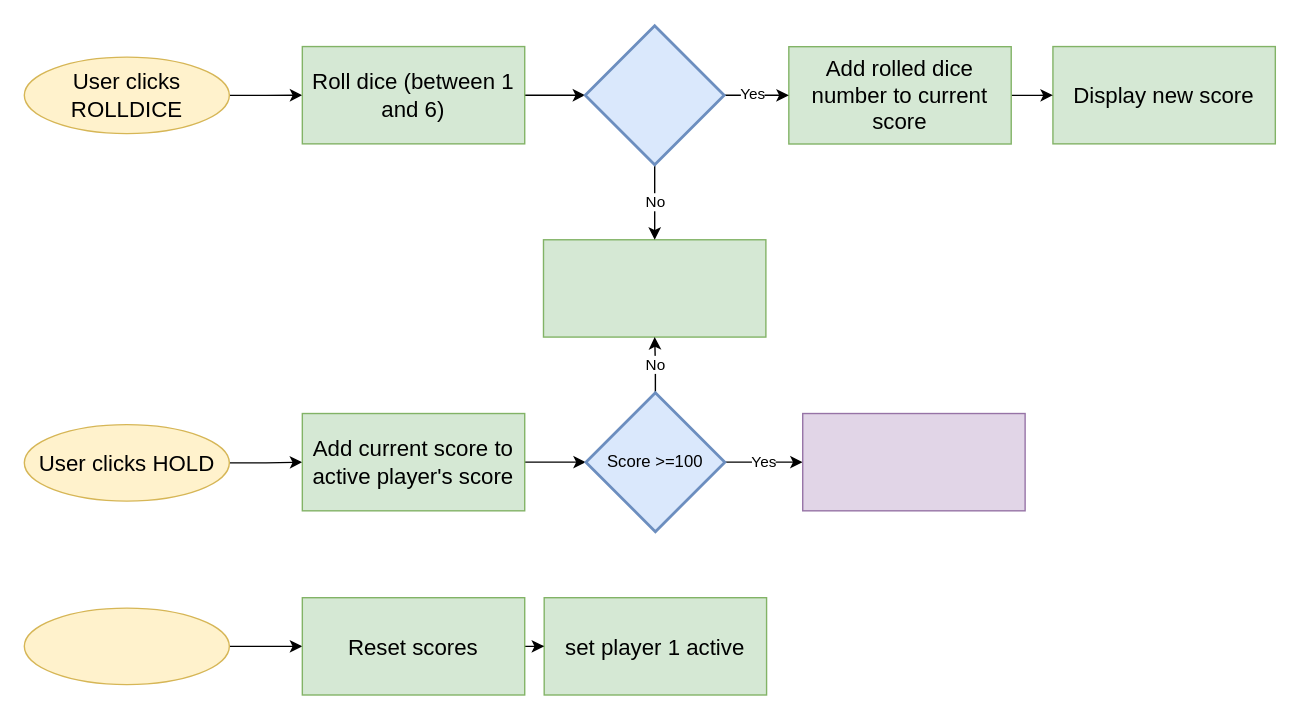
Image size: 1300x719. Some labels were removed from this diagram. Each missing label, with the centre of its shape:
"Active player wins!" belongs at point 913,461.
"Rolled 1" belongs at point 654,94.
"Switch active player" belongs at point 654,287.
"User clicks NEWGAME" belongs at point 126,646.
